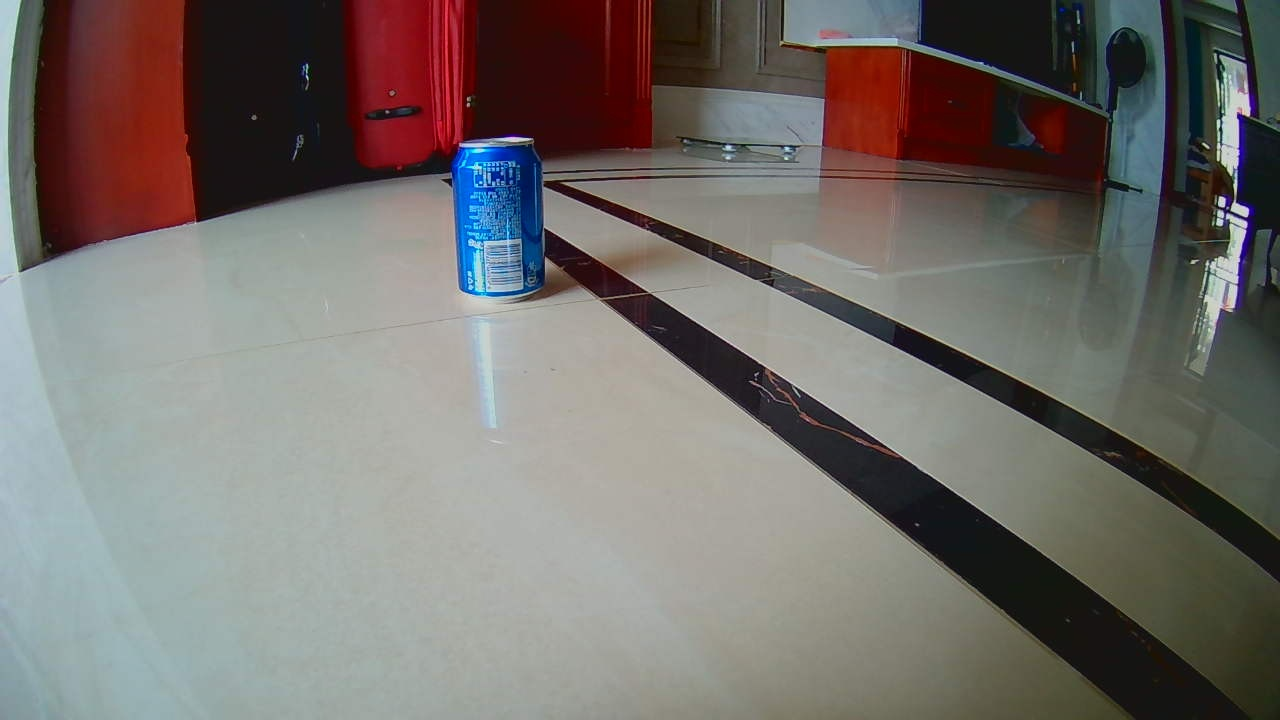pessi: (458, 142, 545, 299)
